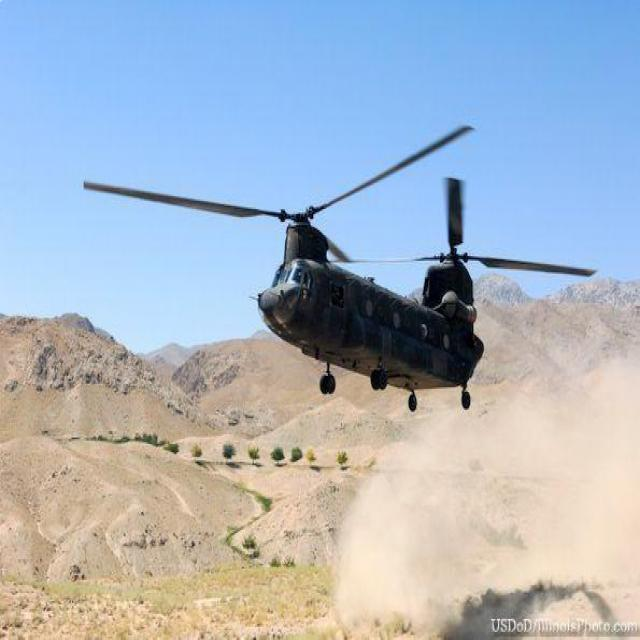MIL_HELO: (62, 110, 602, 420)
